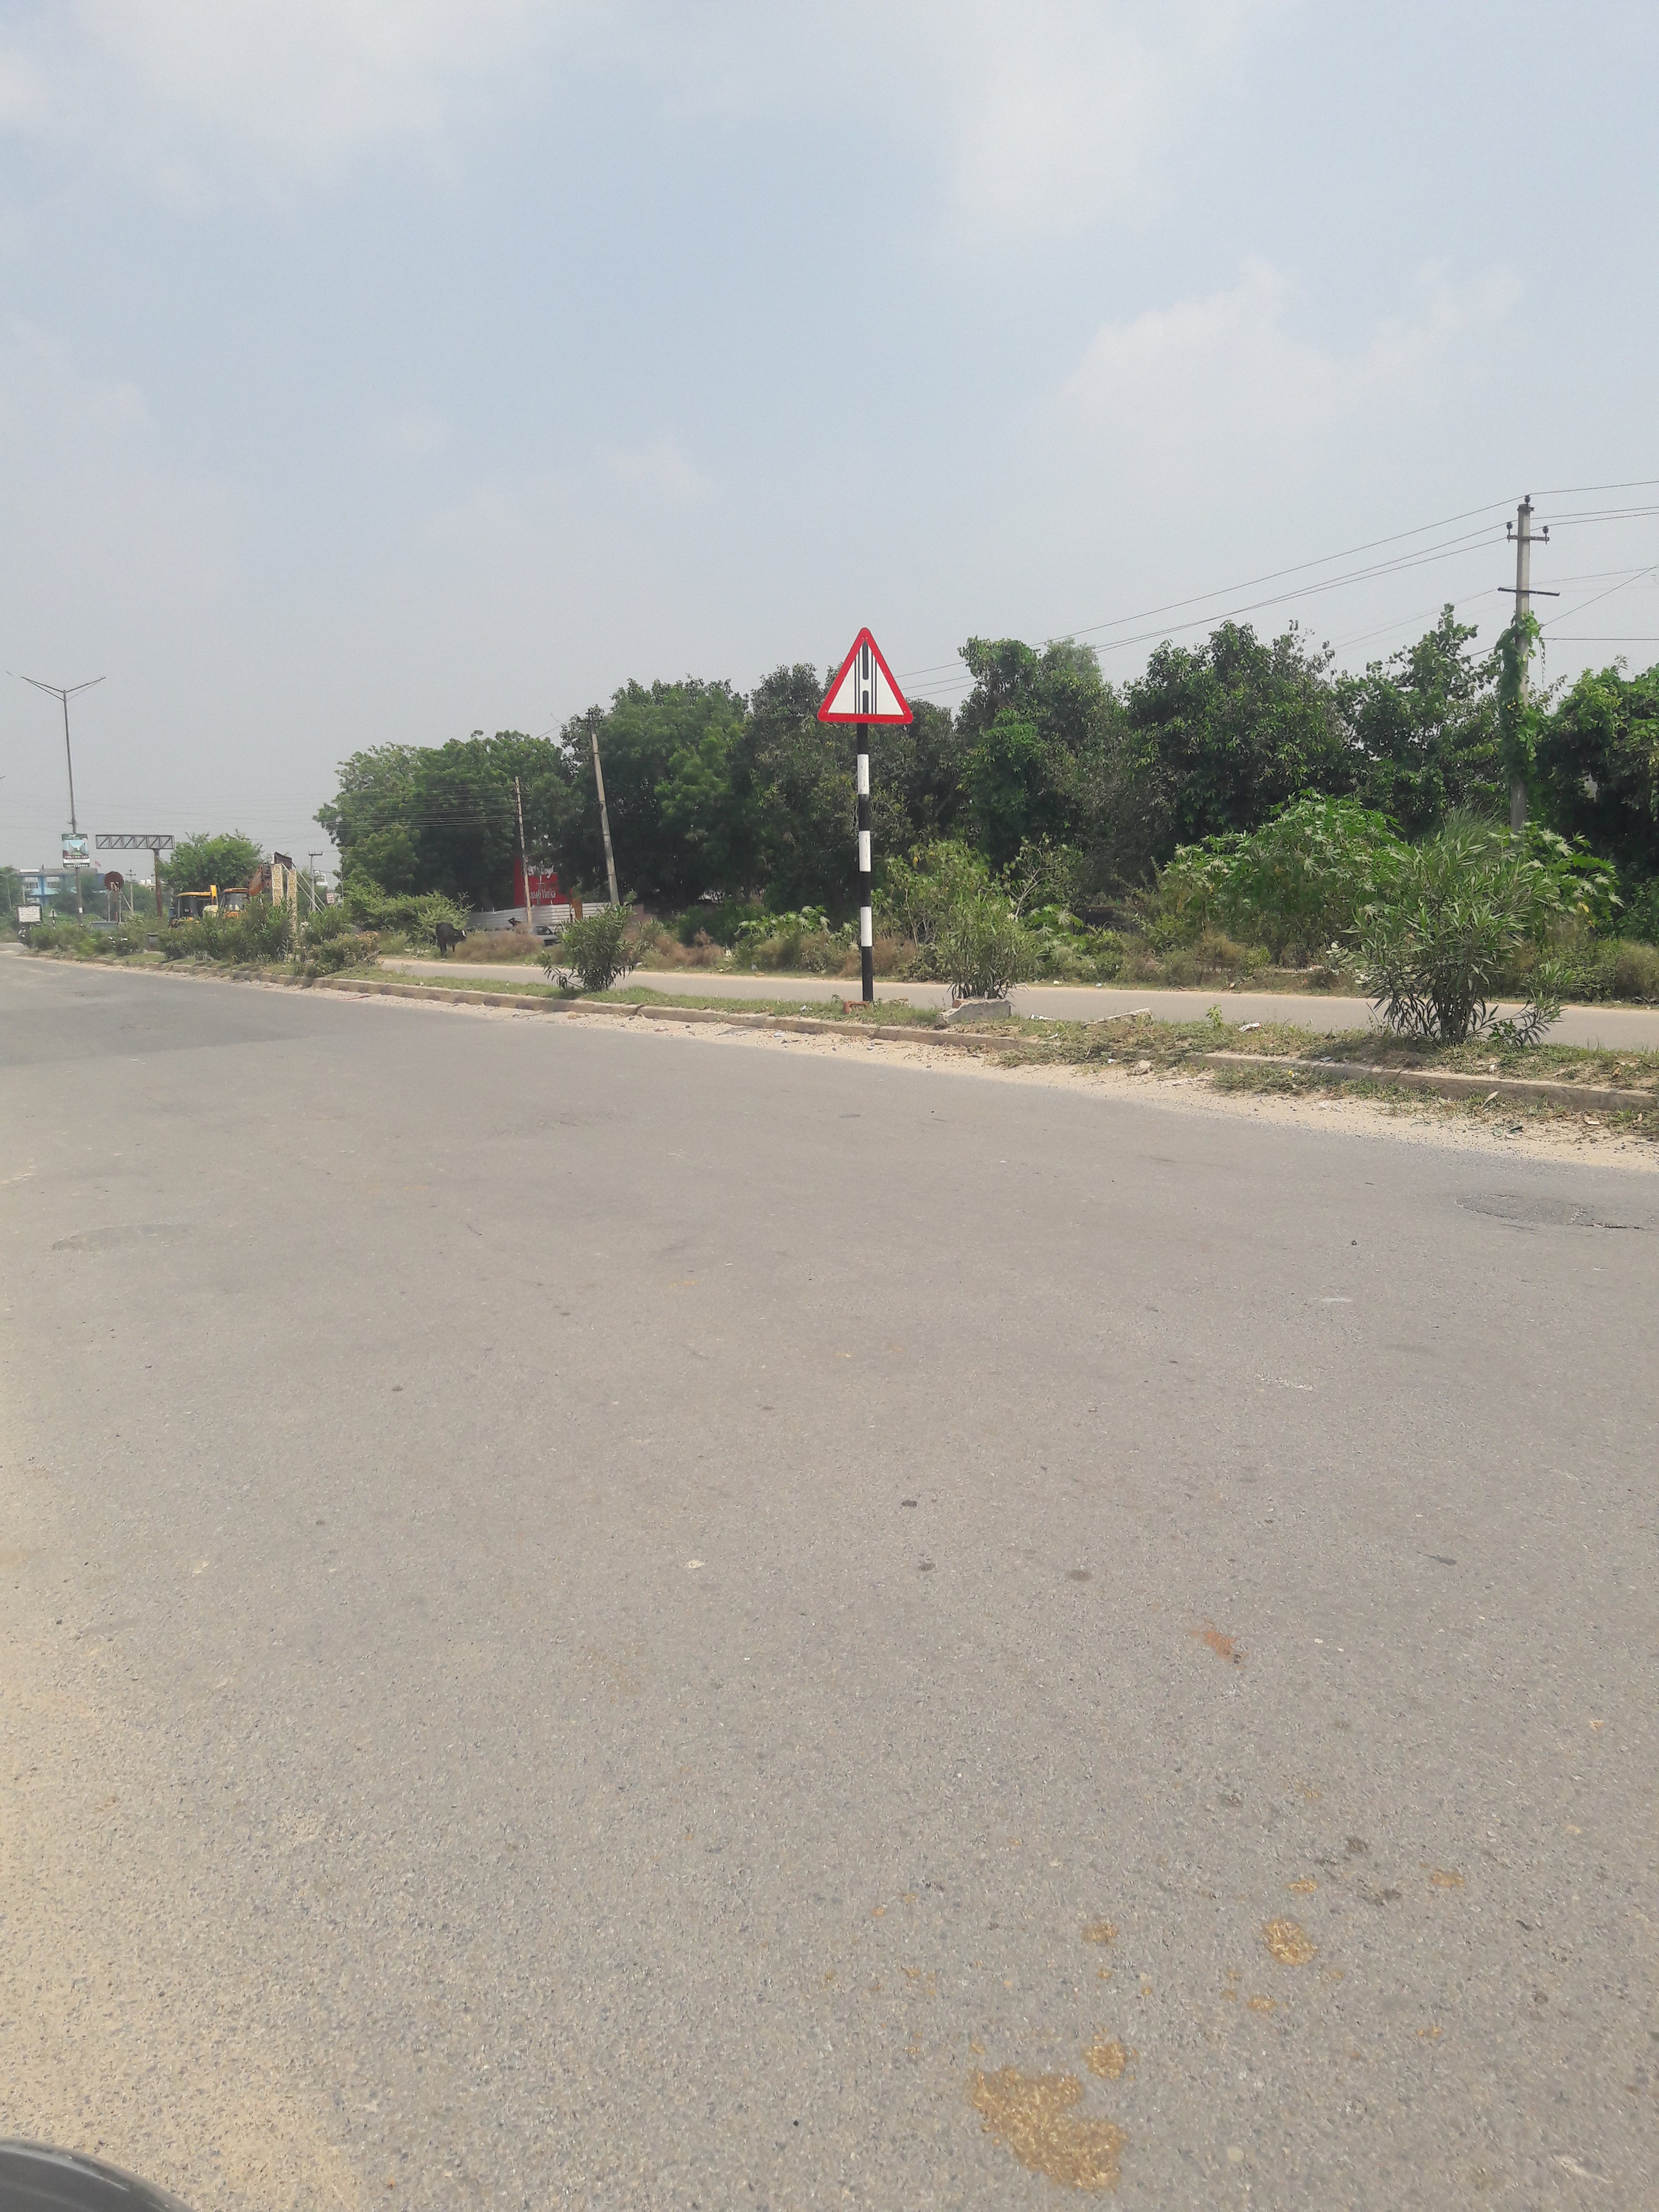traffic_sign: (819, 622, 913, 728)
